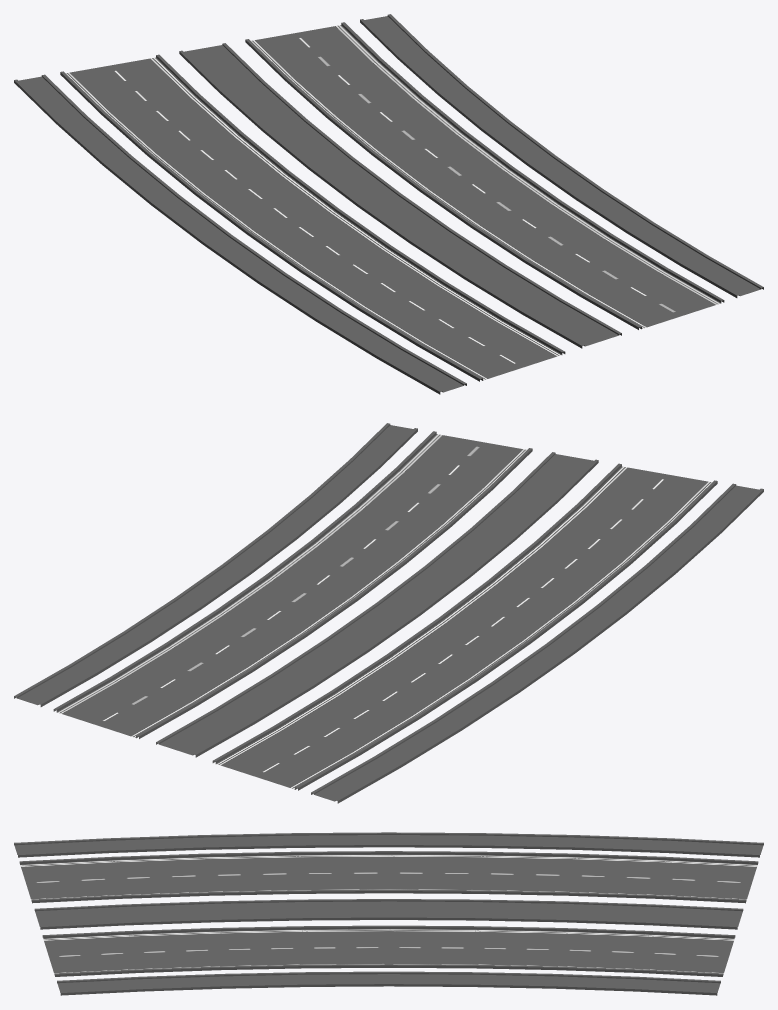
The model's file is Street2LanesTurn15Deg.FBX.
3 views of the same model, one above another, from view 1: azimuth 30°, elevation 25°; view 2: azimuth 150°, elevation 25°; view 3: azimuth 270°, elevation 25° (orthographic). The views are drawn at different scales.
Parts seen in each view (by area): view 1: Street2LanesTurn15Deg; view 2: Street2LanesTurn15Deg; view 3: Street2LanesTurn15Deg.
Part boxes in pixels (x1,y1,x2,y2): Street2LanesTurn15Deg: [14, 14, 763, 394]; Street2LanesTurn15Deg: [14, 423, 763, 803]; Street2LanesTurn15Deg: [14, 832, 763, 995].
Size of the model in its own units: 43.14 by 0.3 by 85.08.
